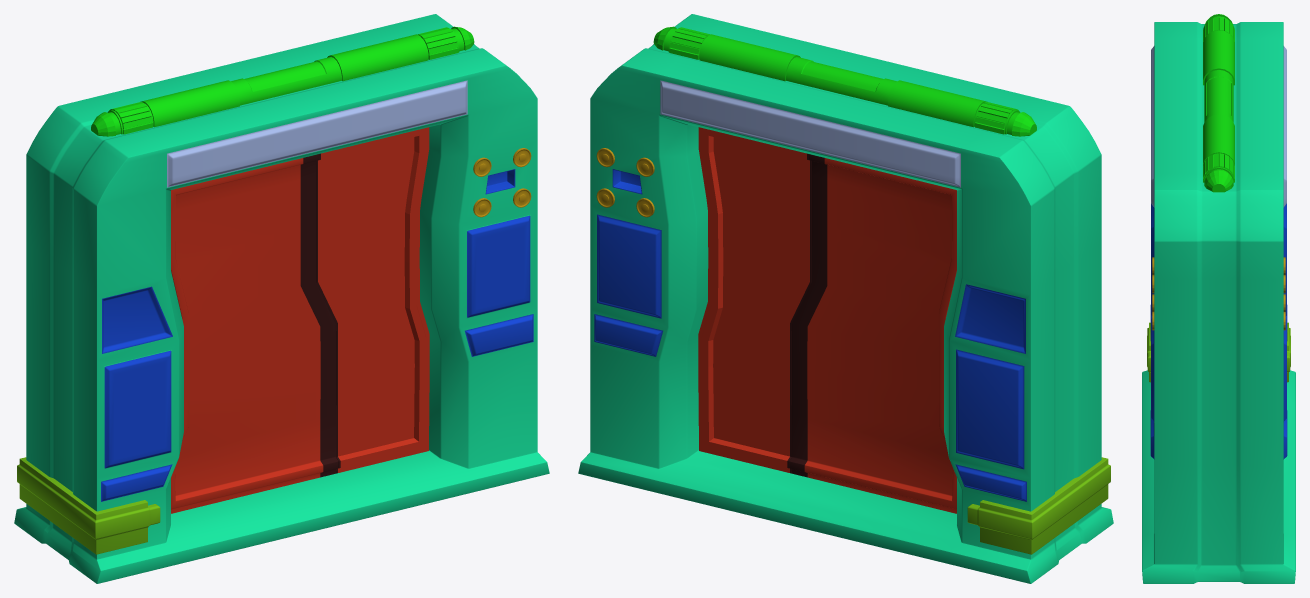
The model's file is Nouvelle porte.FBX.
The picture shows the model from 3 angles, left to right: view 1: azimuth 30°, elevation 25°; view 2: azimuth 150°, elevation 25°; view 3: azimuth 270°, elevation 25°; orthographic projection. The views are drawn at different scales.
Visible parts, largest first — view 1: New door HP, Porte gauche, Porte droite; view 2: New door HP, Porte gauche, Porte droite; view 3: New door HP.
Boxes of the visible parts, bbox=[...] form: New door HP: bbox=[14, 14, 549, 583]; Porte gauche: bbox=[171, 154, 338, 513]; Porte droite: bbox=[316, 127, 429, 473]; New door HP: bbox=[578, 14, 1113, 583]; Porte gauche: bbox=[789, 154, 956, 513]; Porte droite: bbox=[698, 127, 811, 473]; New door HP: bbox=[1142, 14, 1295, 583].
Bounding box in the file's own units: 732 × 663 × 236.
